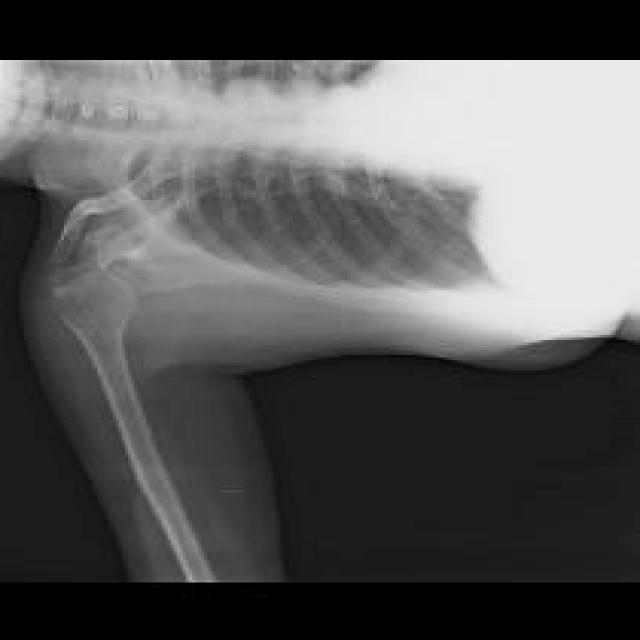normal: (49, 260, 222, 585)
